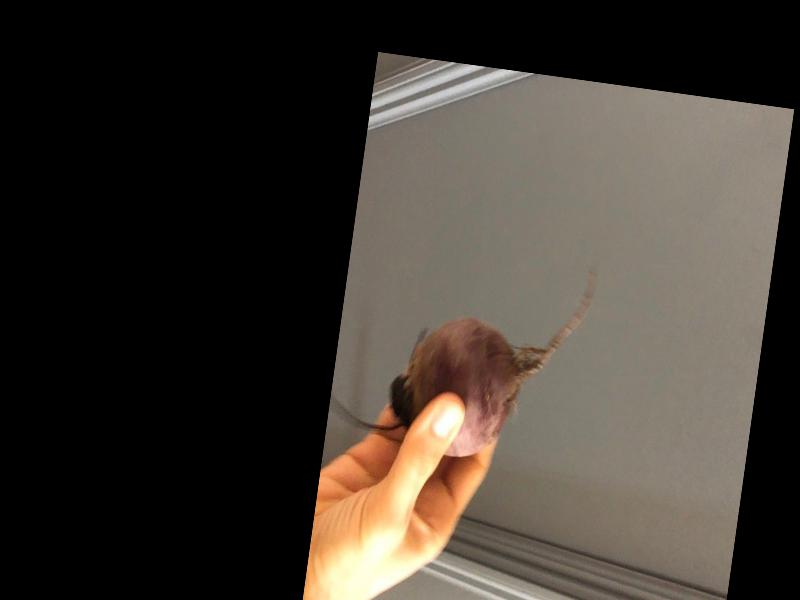Beet: (324, 231, 598, 471)
